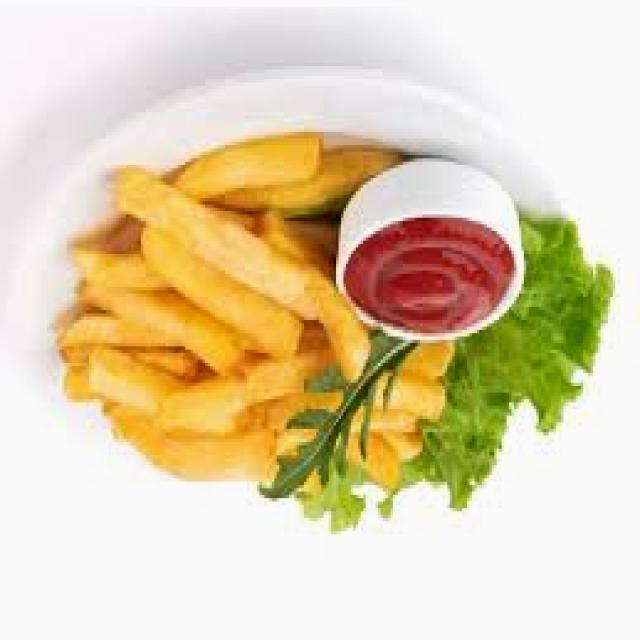kentang goreng: (116, 168, 316, 320)
